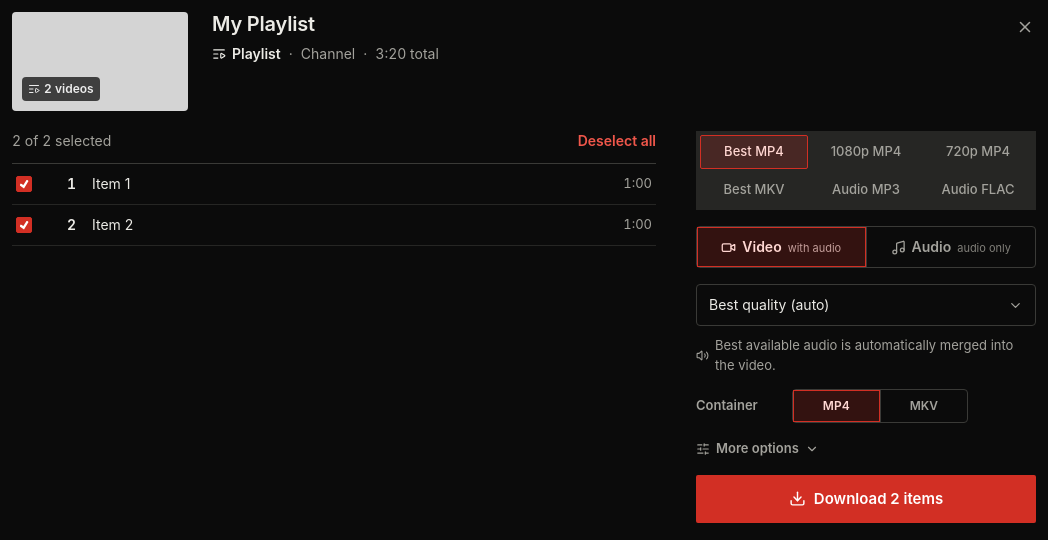
it: MediaCard › disables download when nothing is selected
Click the button "Deselect all" at (617, 141), box [578,131,656,151]
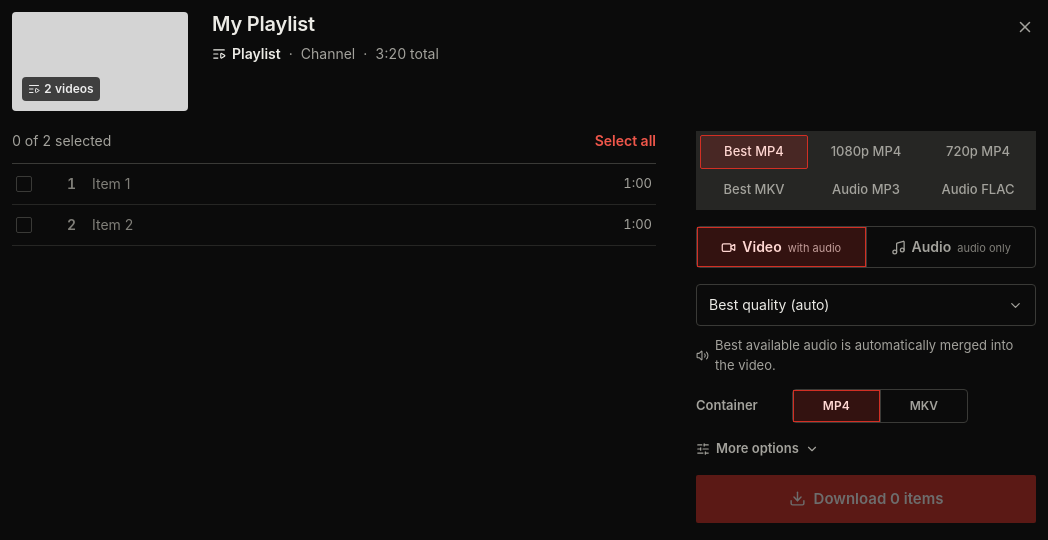
Now the button "Download 0 items" is disabled, box [696,474,1036,522]
